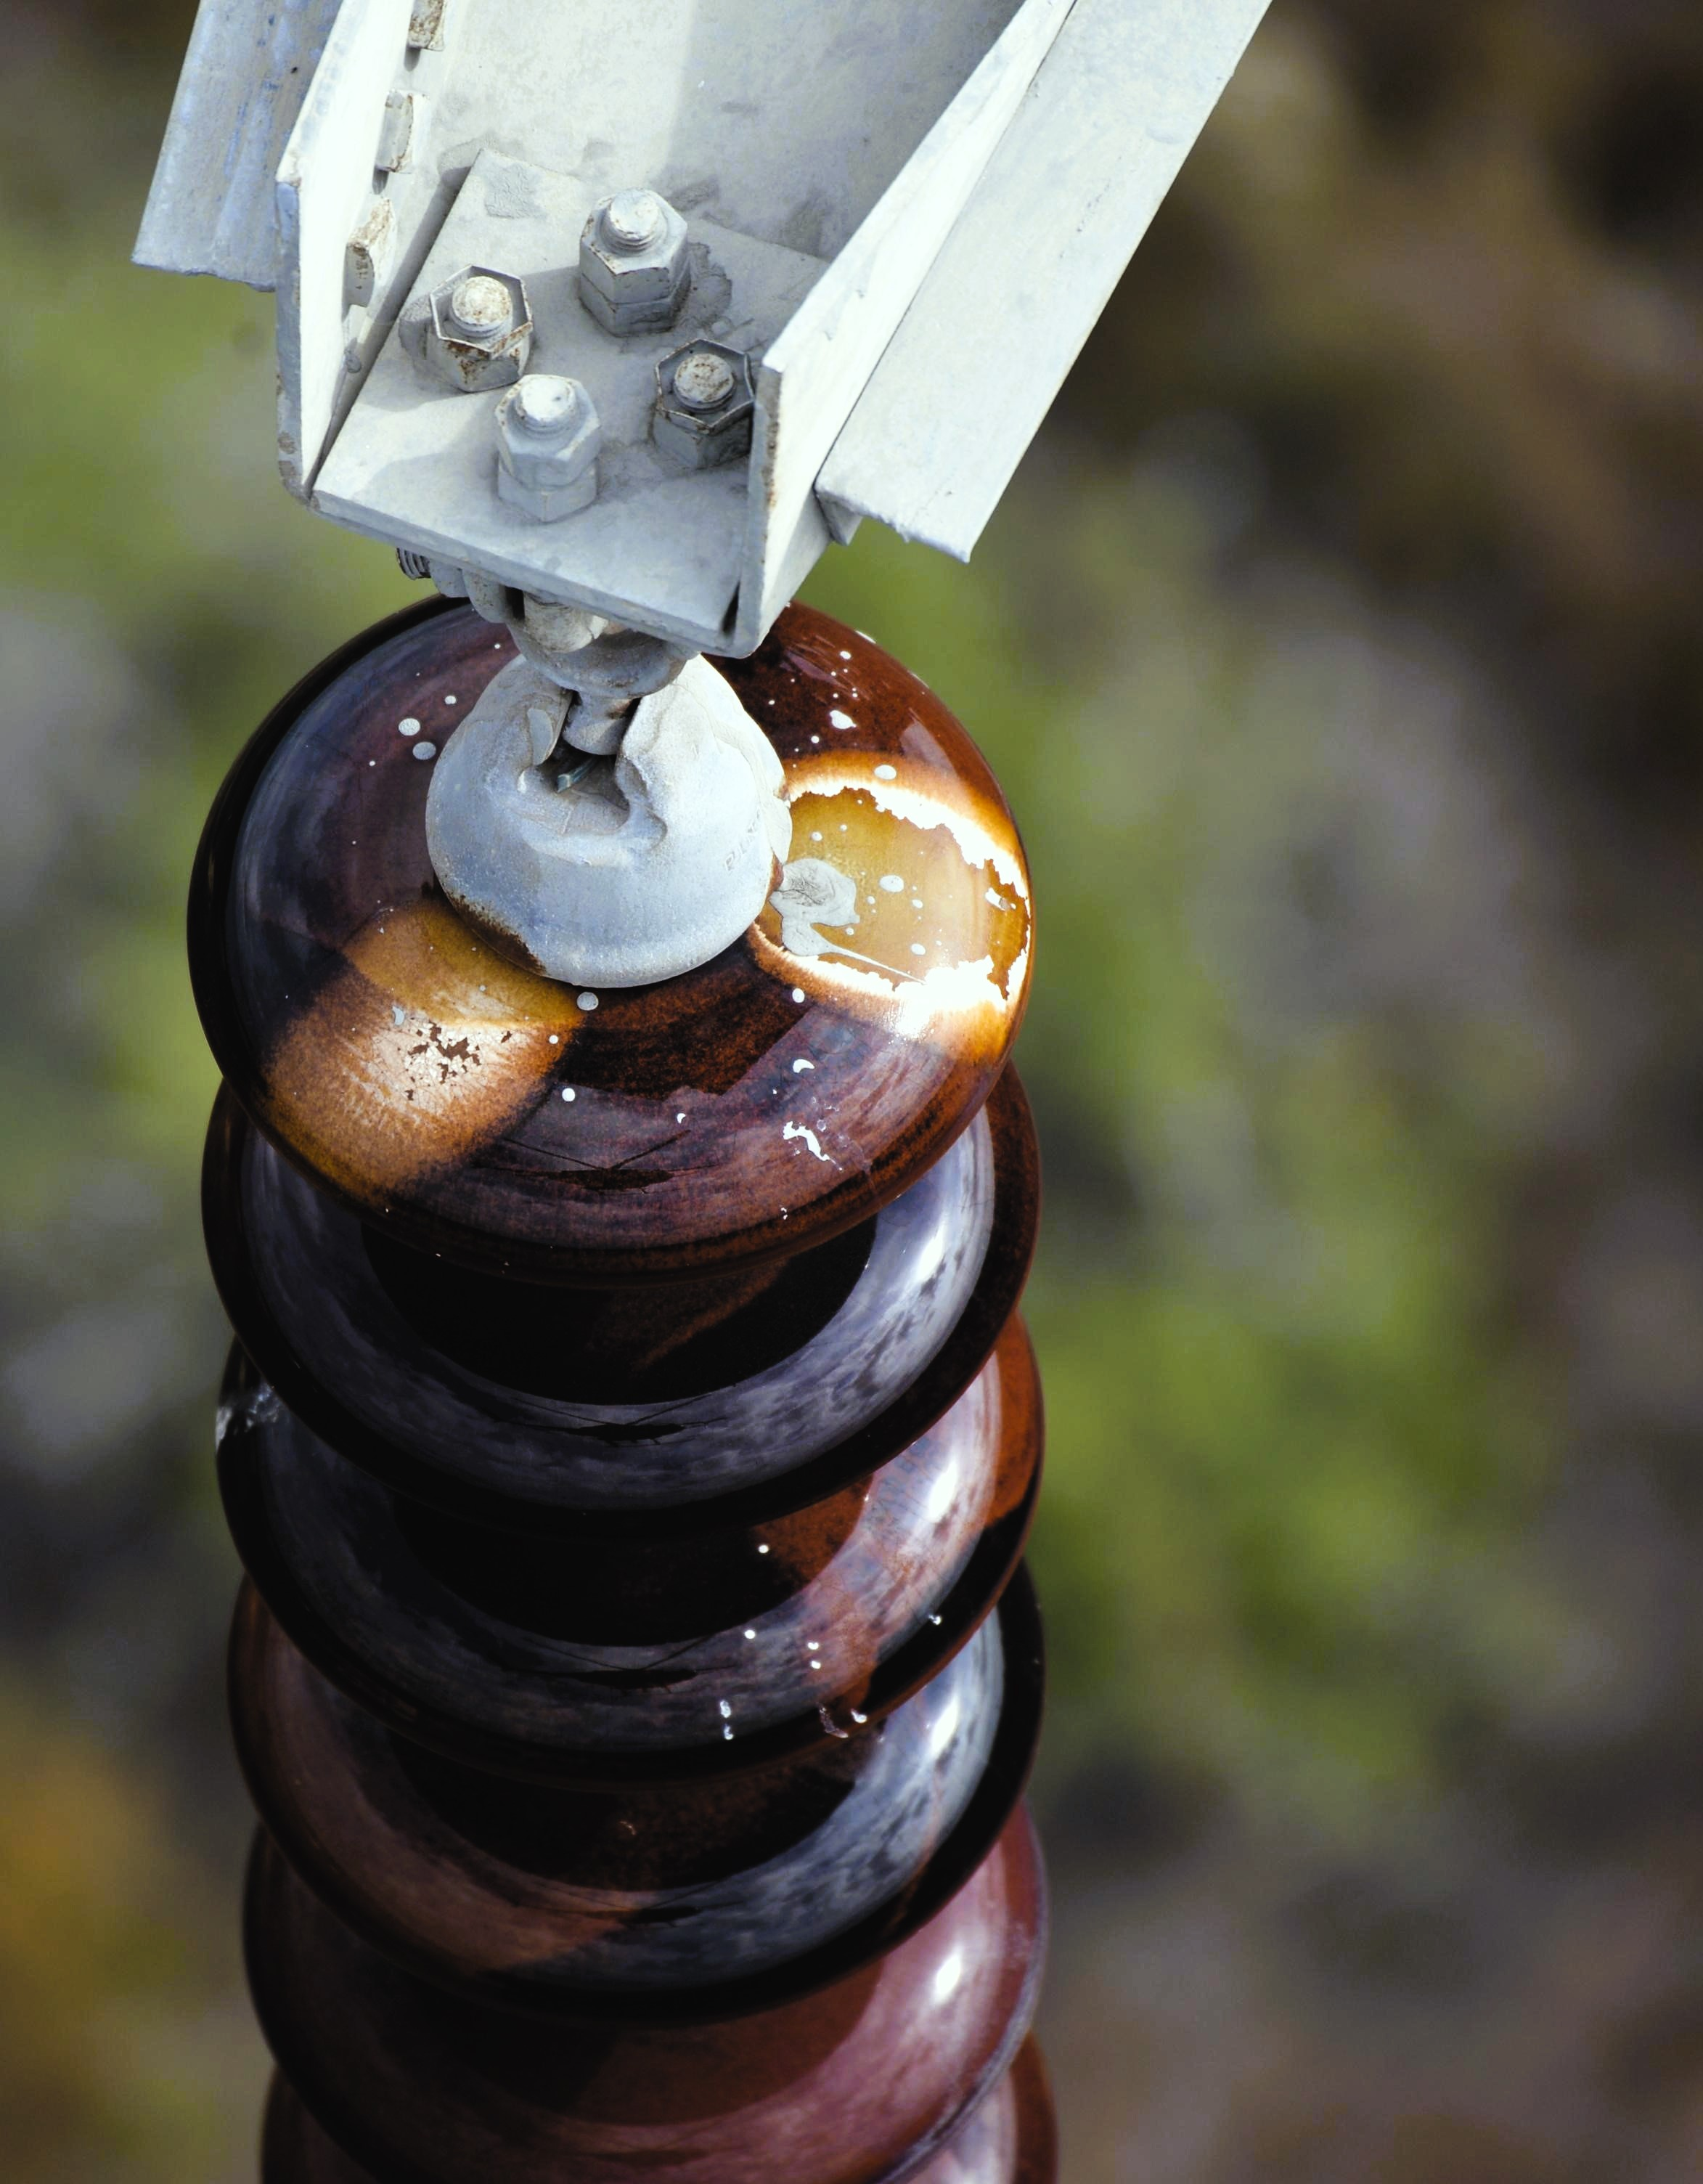Insulator flashover: (165, 581, 1046, 1273)
